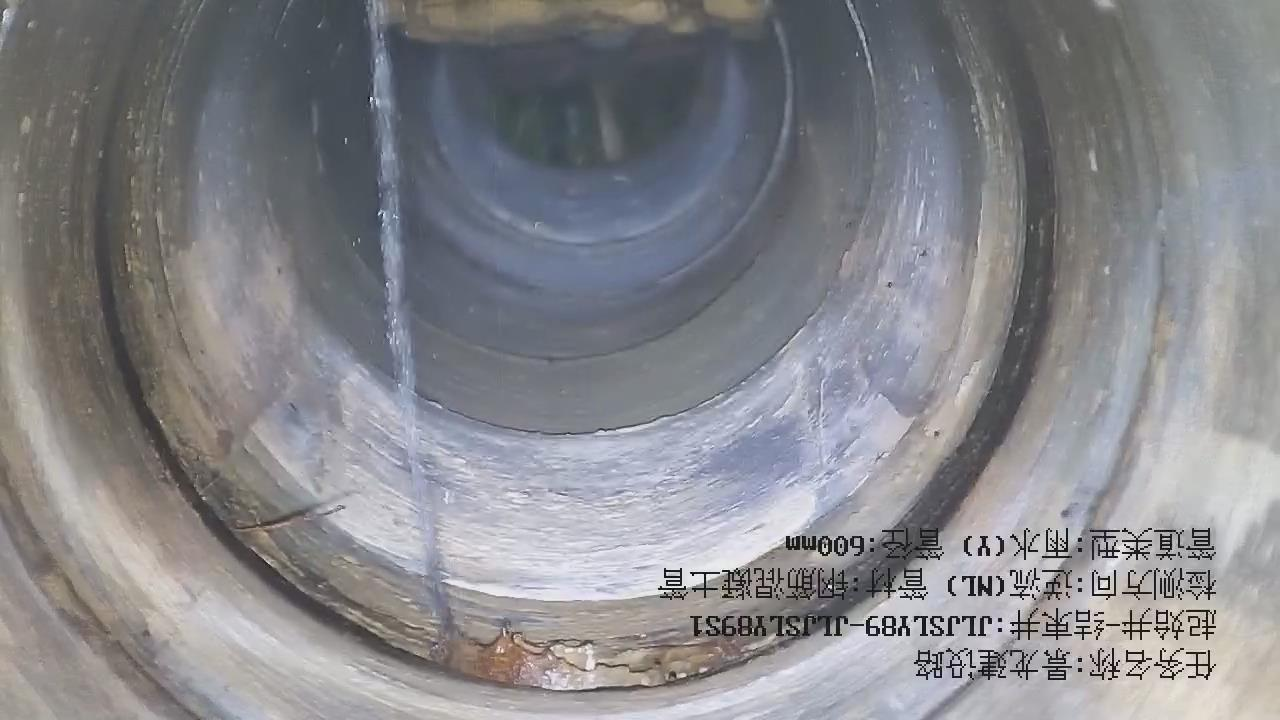SL: (348, 1, 488, 693)
